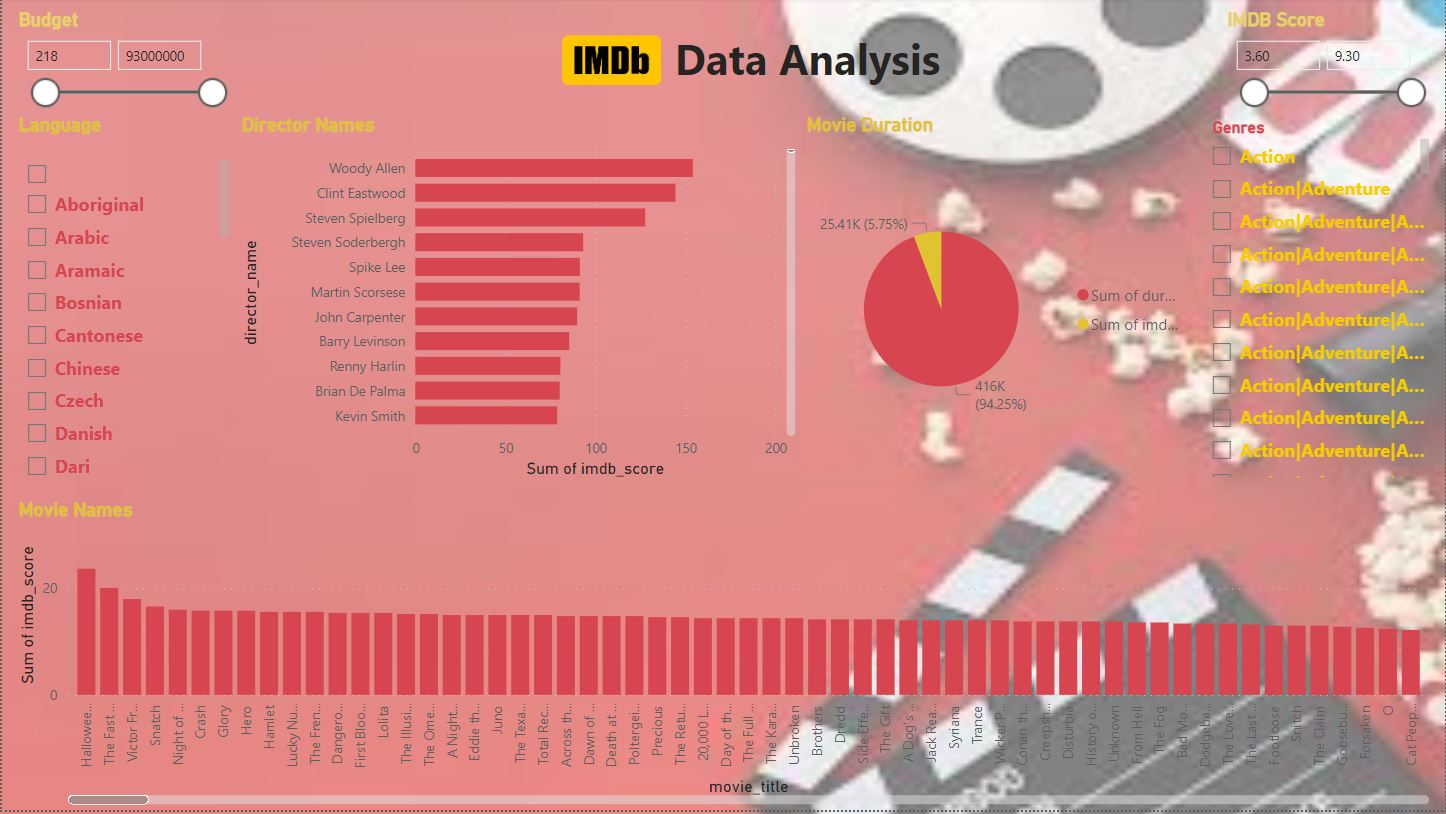

This screenshot's page, from the dashboard's own definition file:
{"tool":"powerbi","page":{"name":"Page 1","canvas":[1280,720],"ordinal":0},"visuals":[{"type":"slicer","title":"IMDB Score","fields":{"Values":["IMDB.imdb_score"]},"box":[1081.8,8.9,188.9,102],"z":0},{"type":"pieChart","title":"Movie Duration","fields":{"Y":["IMDB.duration","IMDB.imdb_score"]},"box":[708.6,101.7,351.8,328.4],"z":1000},{"type":"slicer","fields":{"Values":["IMDB.genres"]},"box":[1060.4,101.7,210.5,328.4],"z":2000},{"type":"slicer","title":"Language","fields":{"Values":["IMDB.language"]},"box":[10.2,101.7,197.2,328.4],"z":3000},{"type":"clusteredBarChart","title":"Director Names","fields":{"Category":["IMDB.director_name"],"Y":["IMDB.imdb_score"]},"box":[207.4,101.7,501.2,328.4],"z":4000},{"type":"slicer","title":"Budget","fields":{"Values":["IMDB.budget"]},"box":[9.8,8.9,197.7,101.1],"z":5000},{"type":"columnChart","title":"Movie Names","fields":{"Category":["IMDB.movie_title"],"Y":["IMDB.imdb_score"]},"box":[10.2,443.3,1260.7,276.5],"z":6000},{"type":"textbox","box":[591.7,23.4,255.2,63],"z":7000},{"type":"image","box":[457.7,0,165.7,109.8],"z":8000}]}

Visuals, with their boxes in screenshot pixels (x1, y1, x2, y2), scaled from the page's 1280x720 canvas onto the 1446x814 screenshot:
"IMDB Score" slicer: [1222,10,1435,125]
"Movie Duration" pieChart: [800,115,1198,486]
slicer - IMDB.genres: [1198,115,1436,486]
"Language" slicer: [12,115,234,486]
"Director Names" clusteredBarChart: [234,115,800,486]
"Budget" slicer: [11,10,234,124]
"Movie Names" columnChart: [12,501,1436,813]
textbox: [668,26,957,98]
image: [517,0,704,124]
